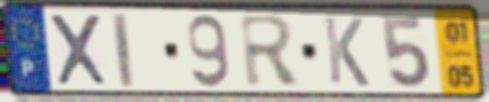5: (379, 14, 433, 90)
9: (185, 11, 233, 90)
I: (109, 10, 137, 90)
K: (320, 14, 372, 89)
R: (236, 13, 305, 90)
X: (45, 11, 112, 89)
